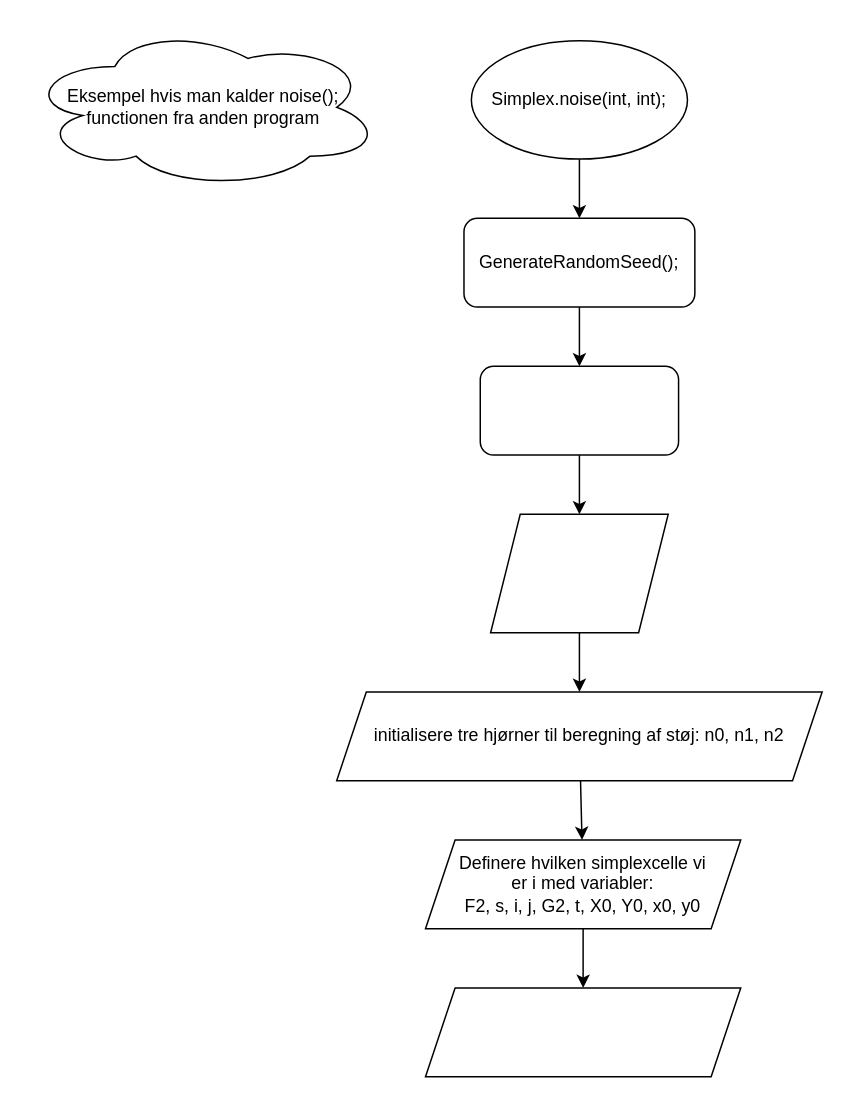
Some shapes in this 848 by 1103 pixel diagram are drawn without their labels. The shapes that lost their labels are listed below. From the top down, each one's centre as x and y in pixels, then its label:
At [579,410]: "InitializePermArray();".
At [578,573]: "Instantiere: int[][] grad3 List p List perm".
